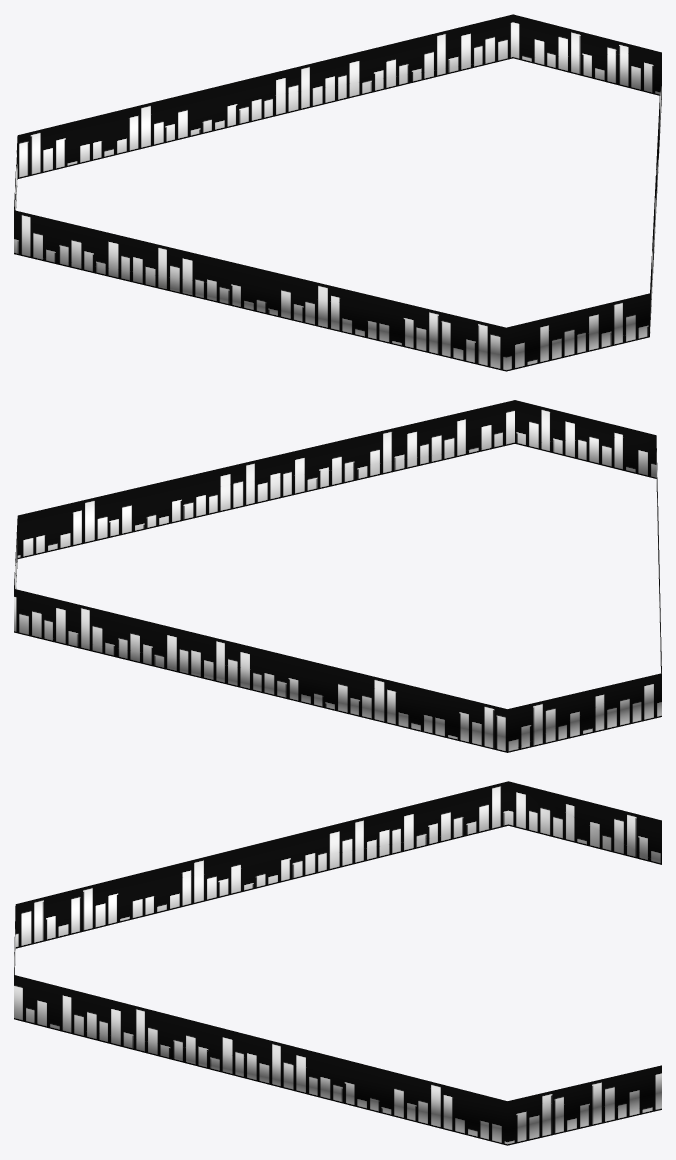
File: Effect_yinlv.FBX
The picture shows the model from 3 angles, top to bottom: view 1: azimuth 30°, elevation 25°; view 2: azimuth 150°, elevation 25°; view 3: azimuth 270°, elevation 25°; orthographic projection.
Visible parts, largest first — view 1: Effect_yinlv; view 2: Effect_yinlv; view 3: Effect_yinlv.
Part boxes in pixels (x1,y1,x2,y2): Effect_yinlv: (14,14,661,371); Effect_yinlv: (14,400,661,752); Effect_yinlv: (14,781,661,1145).
Bounding box in the file's own units: 16.35 × 1.06 × 14.
1 material, 1 textured.
